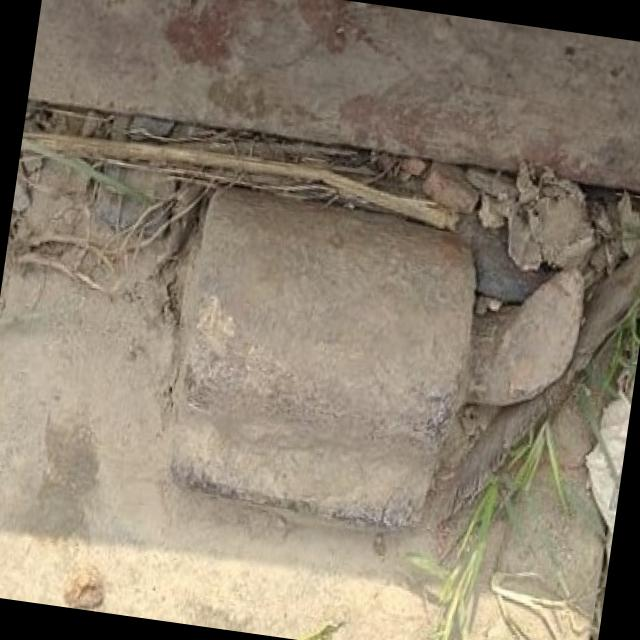track_bolt_missing: (158, 176, 495, 461)
